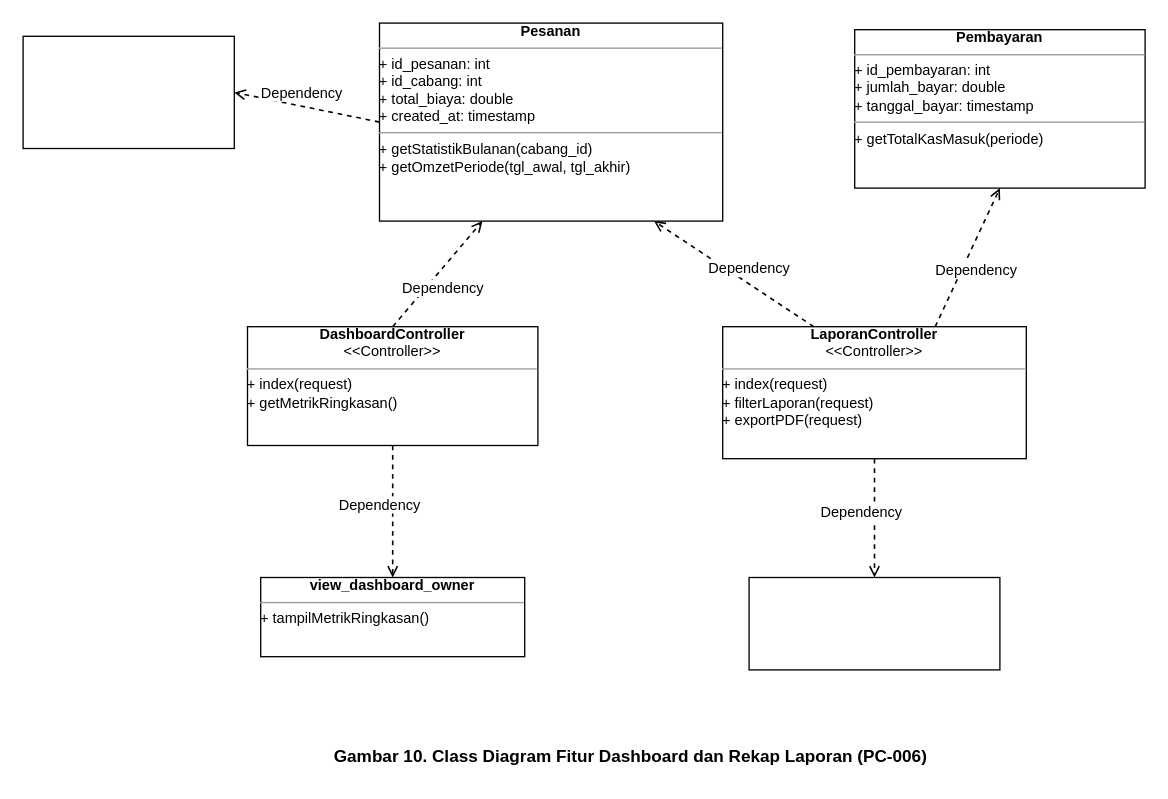
The diagram is 1168 pixels wide and 799 high, and some of its shapes have lost their labels. The centre of each missing label's shape, as x and y in pixels:
Database + db: array + nama_database: String + koneksi(nama_database): the point at 128,91
view_laporan_keuangan + filterPeriode() + cetakRekap(): the point at 874,623
